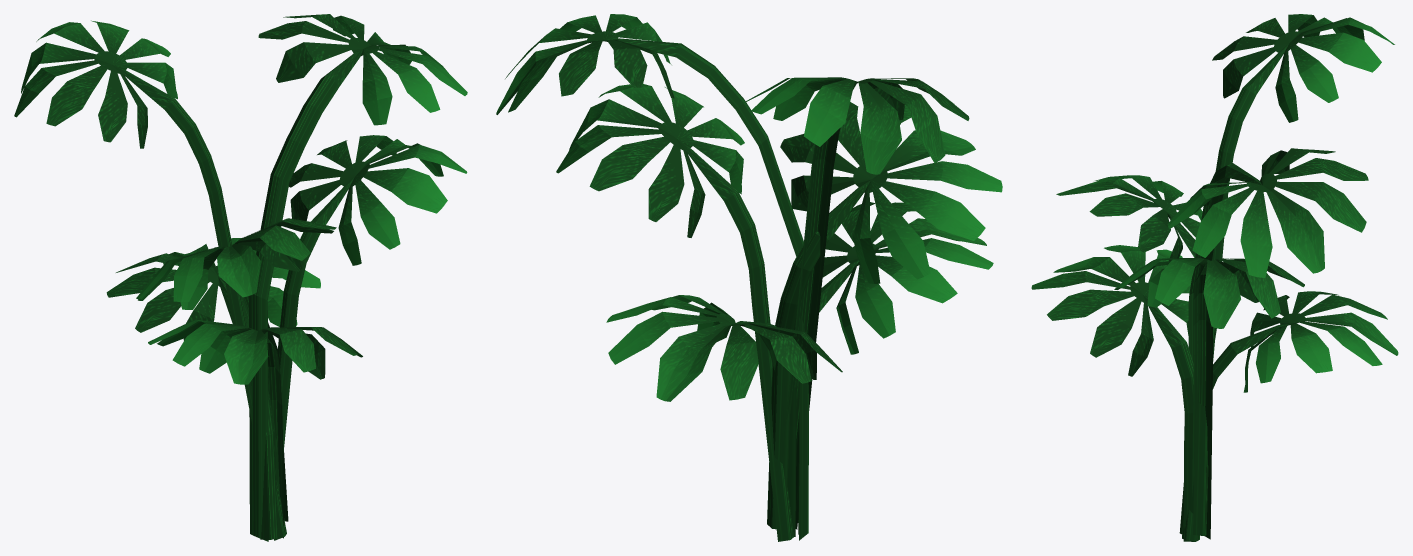
The model's file is plant01.glb.
3 renders of one model, left to right at view 1: azimuth 30°, elevation 25°; view 2: azimuth 150°, elevation 25°; view 3: azimuth 270°, elevation 25°, orthographic. The views are drawn at different scales.
Parts seen in each view (by area): view 1: Sphere.046; view 2: Sphere.046; view 3: Sphere.046.
Boxes of the visible parts, box(x1,y1,x2,y2) form: Sphere.046: box(14, 14, 467, 541); Sphere.046: box(496, 14, 1002, 541); Sphere.046: box(1031, 14, 1398, 541).
Bounding box in the file's own units: 6.33 × 7.09 × 5.09.
Materials: 2 (2 with a texture image).
